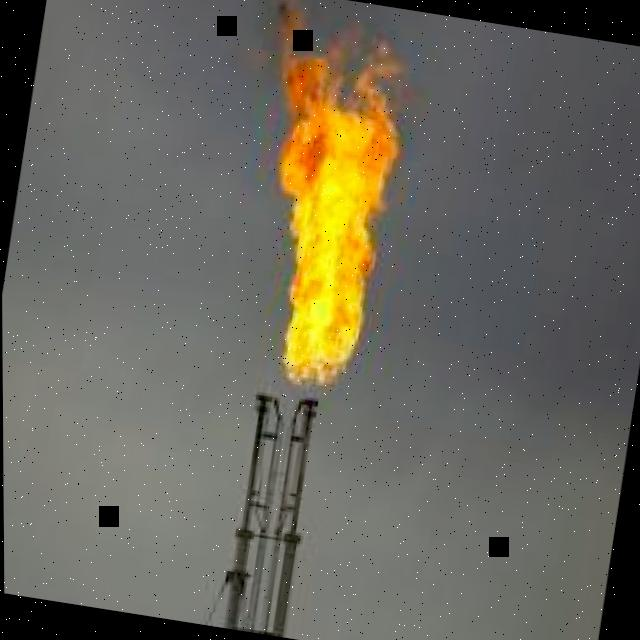fire: (278, 0, 405, 381)
smoke: (297, 0, 397, 107), (225, 0, 287, 87)
